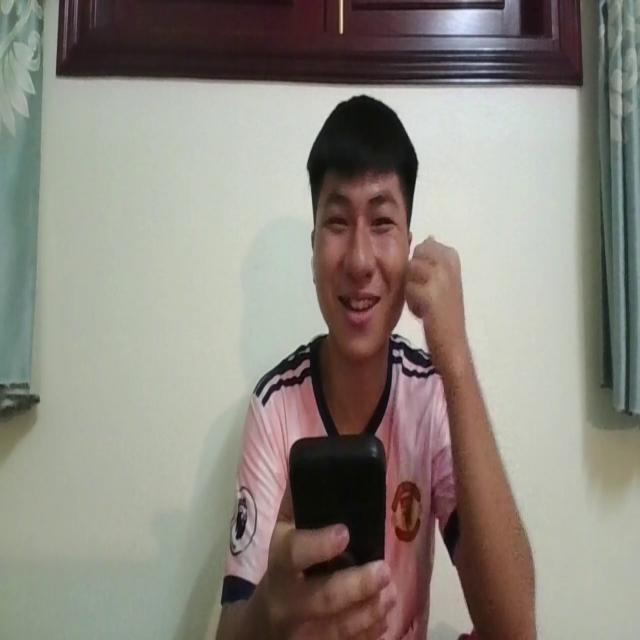phone: (289, 422, 390, 596)
student: (216, 86, 538, 640)
